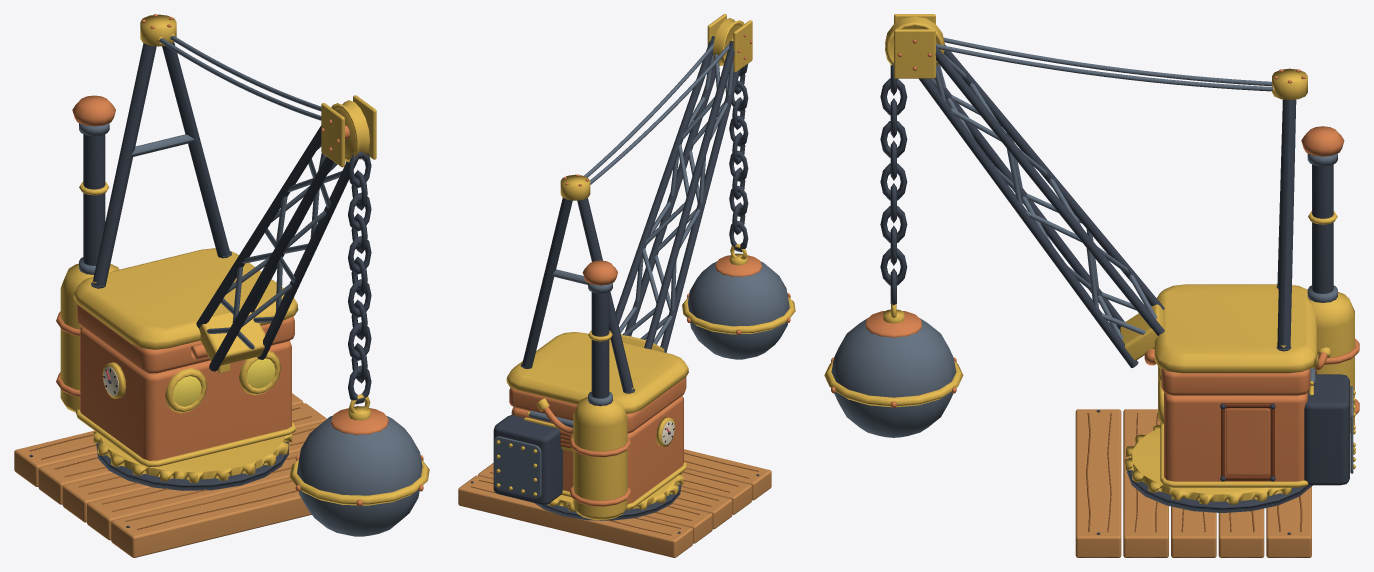
Rendered from WreckingCrane_T2.fbx.
The picture shows the model from 3 angles, left to right: view 1: azimuth 30°, elevation 25°; view 2: azimuth 150°, elevation 25°; view 3: azimuth 270°, elevation 25°; orthographic projection. The views are drawn at different scales.
Visible parts, largest first — view 1: WreckingCraneT2Cab, WreckingCraneT2Deck, WreckingCraneT2Ball, WreckingCraneT2Boom, WreckingCraneT2Gantry, WreckingCraneT2Boiler, WreckingCraneT2Turntable, WreckingCraneT2BoomTrim, WreckingCraneT2Cables, WreckingCraneT2CabGlow, WreckingCraneT2Sheave; view 2: WreckingCraneT2Cab, WreckingCraneT2Boom, WreckingCraneT2Deck, WreckingCraneT2Ball, WreckingCraneT2Boiler, WreckingCraneT2Counterweight, WreckingCraneT2Gantry, WreckingCraneT2Turntable, WreckingCraneT2Cables, WreckingCraneT2BoomTrim, WreckingCraneT2Sheave; view 3: WreckingCraneT2Cab, WreckingCraneT2Deck, WreckingCraneT2Ball, WreckingCraneT2Boom, WreckingCraneT2Boiler, WreckingCraneT2Counterweight, WreckingCraneT2Turntable, WreckingCraneT2Gantry, WreckingCraneT2BoomTrim, WreckingCraneT2Cables, WreckingCraneT2Sheave.
Boxes of the visible parts, x1,y1,x2,y2 form: WreckingCraneT2Cab: (73,248,298,467); WreckingCraneT2Deck: (14,393,326,557); WreckingCraneT2Ball: (289,151,429,536); WreckingCraneT2Boom: (196,125,358,371); WreckingCraneT2Gantry: (91,14,231,288); WreckingCraneT2Boiler: (56,95,119,412); WreckingCraneT2Turntable: (93,431,291,490); WreckingCraneT2BoomTrim: (190,95,376,365); WreckingCraneT2Cables: (157,34,321,120); WreckingCraneT2CabGlow: (173,358,275,406); WreckingCraneT2Sheave: (331,100,369,162); WreckingCraneT2Cab: (506,332,688,509); WreckingCraneT2Boom: (610,36,740,352); WreckingCraneT2Deck: (458,449,771,557); WreckingCraneT2Ball: (682,64,795,359); WreckingCraneT2Boiler: (536,260,631,520); WreckingCraneT2Counterweight: (493,415,562,504); WreckingCraneT2Gantry: (520,174,635,393); WreckingCraneT2Turntable: (534,472,683,520); WreckingCraneT2Cables: (584,37,733,184); WreckingCraneT2BoomTrim: (621,14,752,352); WreckingCraneT2Sheave: (713,18,744,65); WreckingCraneT2Cab: (1154,284,1316,487); WreckingCraneT2Deck: (1075,409,1311,557); WreckingCraneT2Ball: (824,62,963,437); WreckingCraneT2Boom: (919,44,1164,367); WreckingCraneT2Boiler: (1301,126,1359,432); WreckingCraneT2Counterweight: (1304,374,1355,485); WreckingCraneT2Turntable: (1125,424,1312,512); WreckingCraneT2Gantry: (1272,68,1307,351); WreckingCraneT2BoomTrim: (894,14,1163,365); WreckingCraneT2Cables: (936,37,1274,92); WreckingCraneT2Sheave: (885,16,944,65).
Size of the model in its own units: 160 by 275 by 281.
